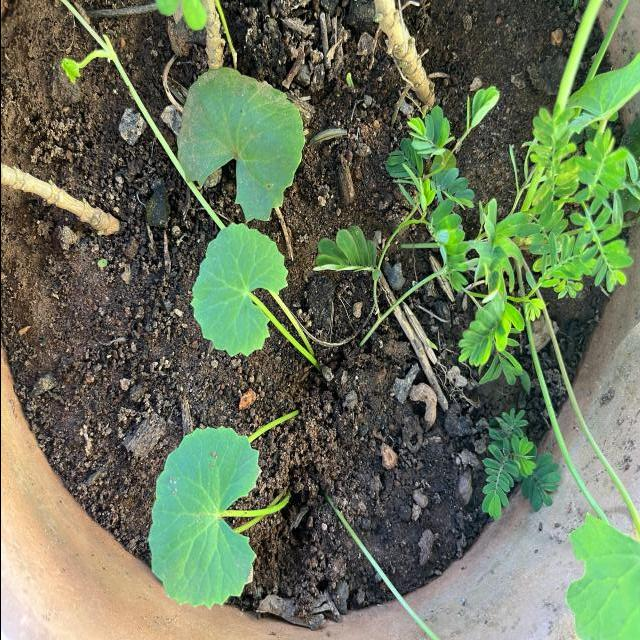Centella asiatica: (145, 423, 264, 612), (173, 65, 308, 226), (186, 221, 289, 360)
